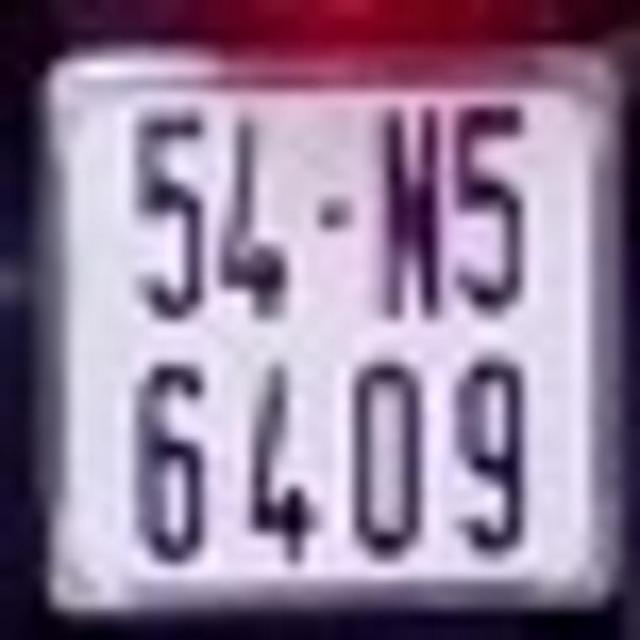0: (340, 347, 424, 562)
4: (214, 118, 292, 316), (241, 353, 313, 562)
5: (450, 98, 529, 313), (130, 108, 204, 324)
6: (130, 352, 209, 570)
9: (452, 348, 527, 556)
N: (379, 92, 442, 319)
